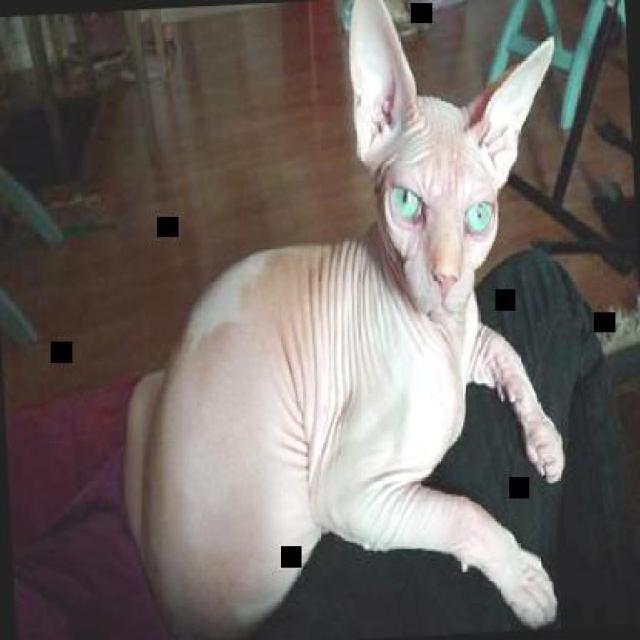cat: (97, 0, 588, 638)
